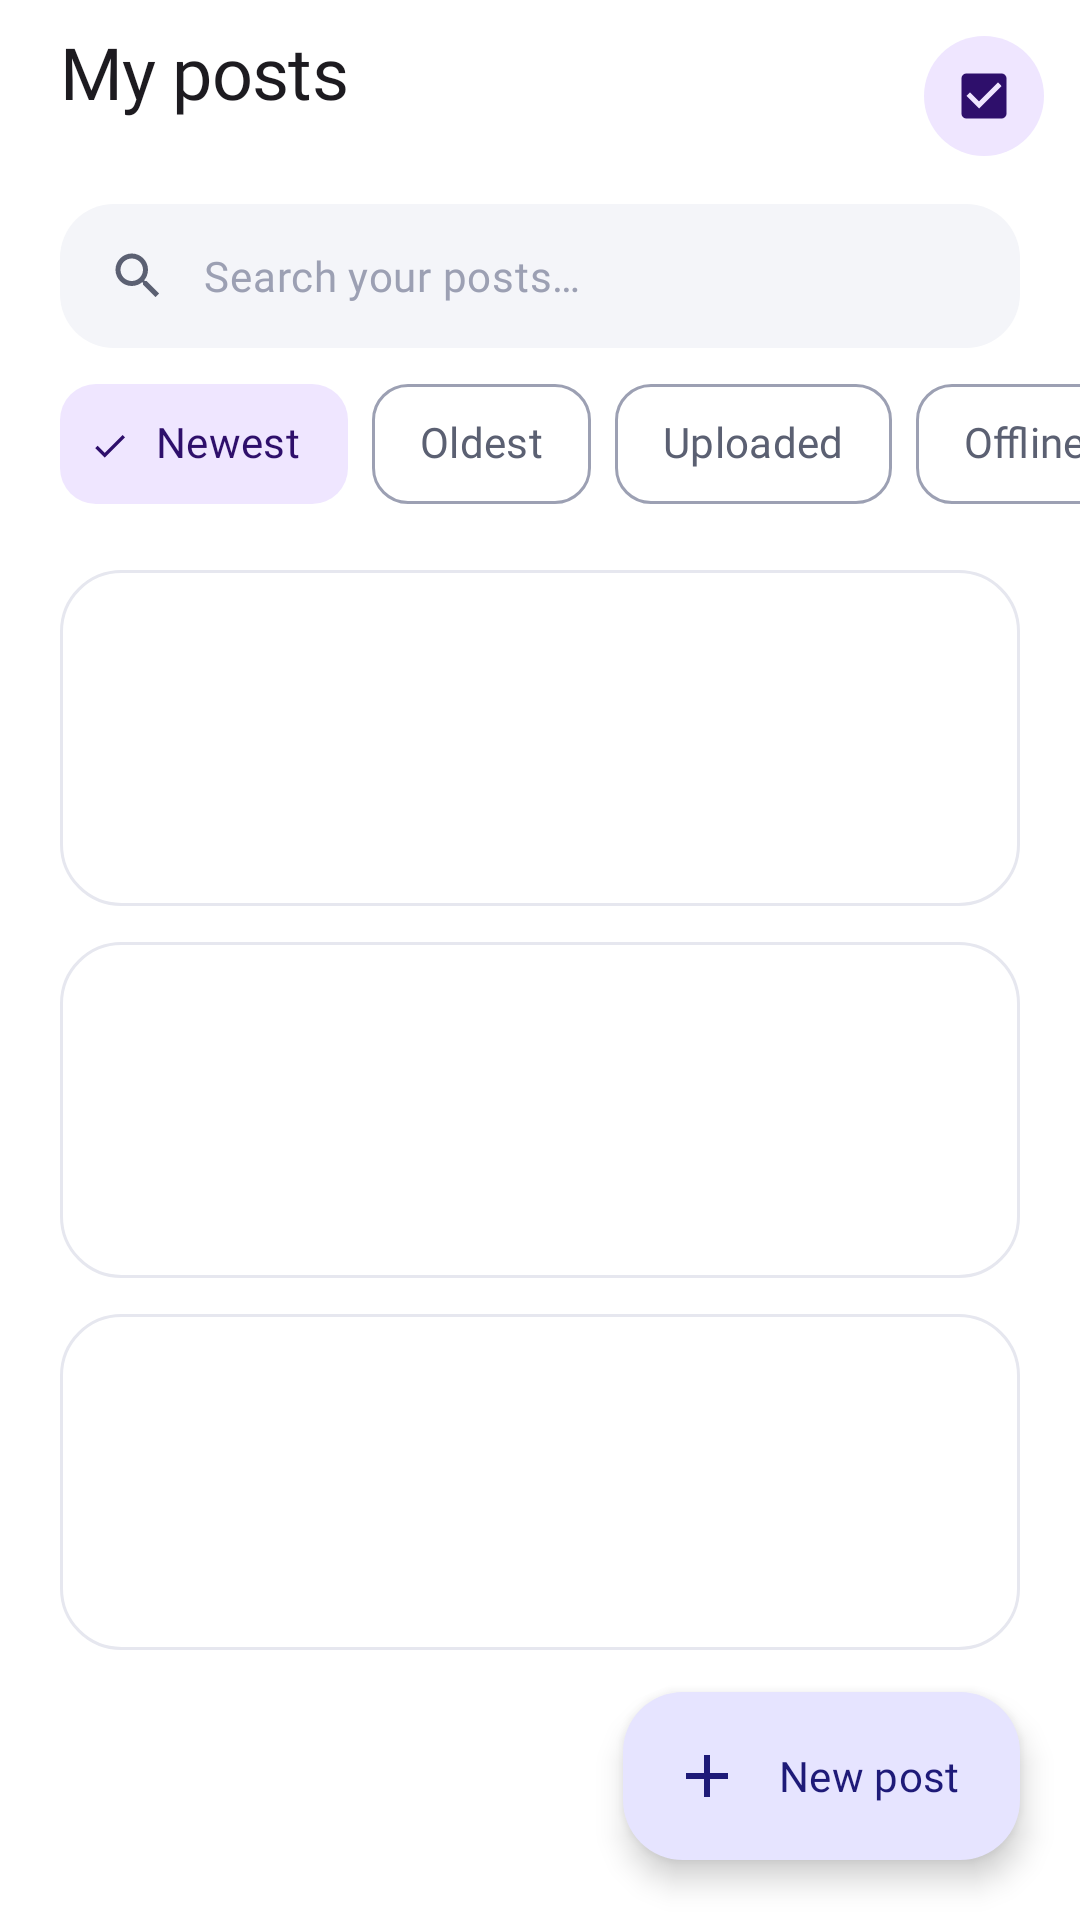

Where to tap for icons on this 1080 x 1920 app screen, as (x,y):
Select: (984,96)
